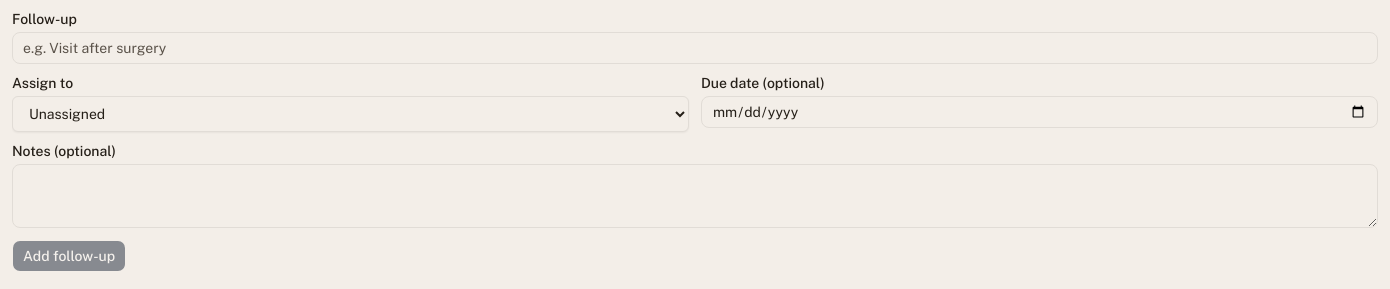
Scenario: FollowUpForm › creates a task on the person and clears the form
Expected: the button "Add follow-up" is disabled, [12, 240, 126, 272]
Type "Call them" into the field labelled "Follow-up".
click(695, 48); type("Call them")  # box [12, 32, 1378, 64]
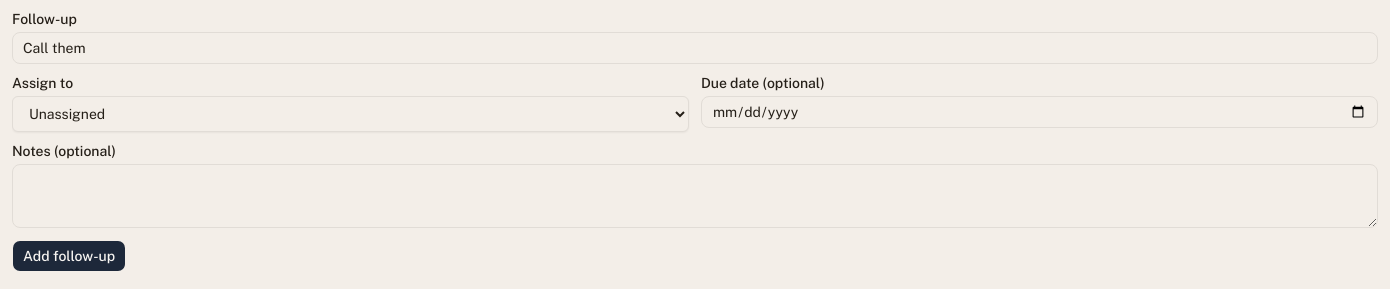
Select "Pat" in the dropdown labelled "Assign to" at {"x": 350, "y": 114}, box [12, 96, 689, 132]
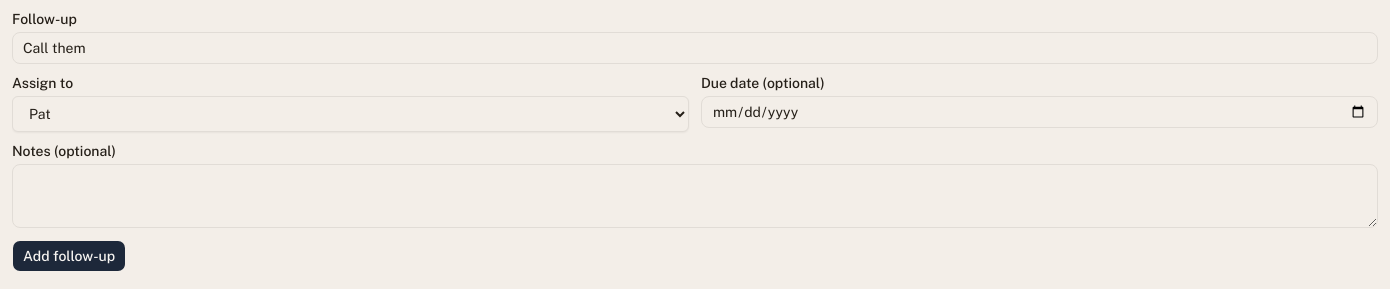
Type "2026-12-01" into the date field labelled "Due date (optional)".
click(1040, 112); type("2026-12-01")  # box [701, 96, 1378, 128]
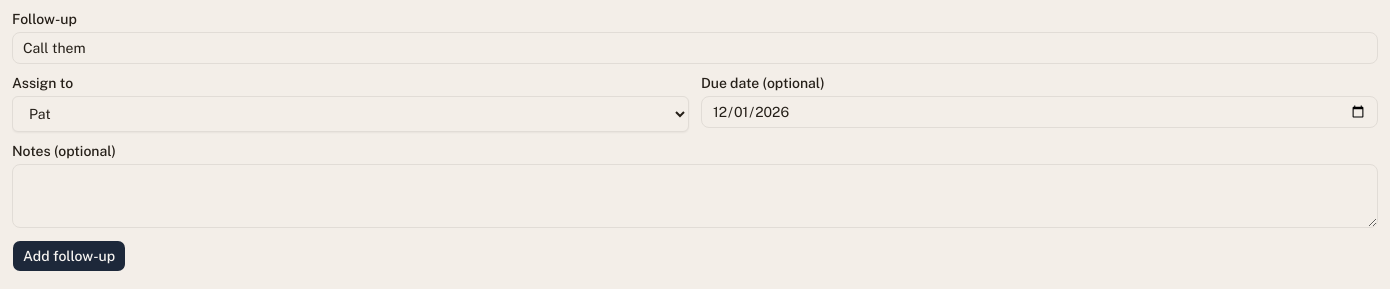
Click the button "Add follow-up".
click(69, 256)  # box [12, 240, 126, 272]
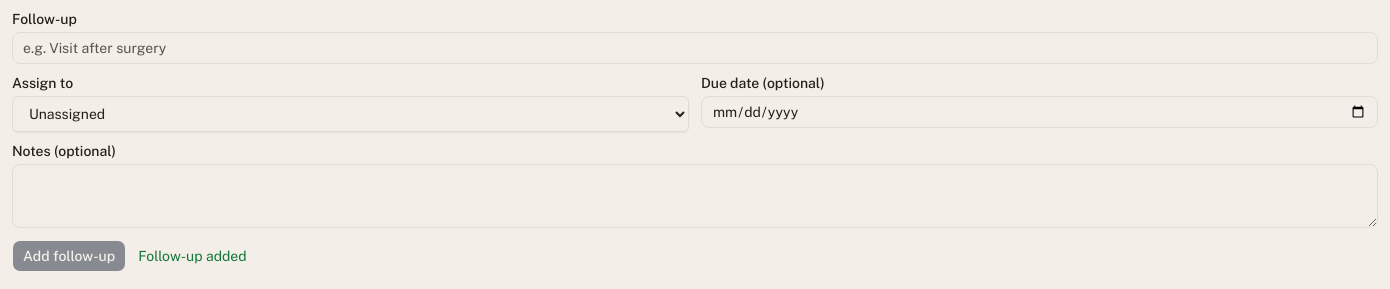
Result: the text "Follow-up added" is shown at [138, 246, 247, 266]
Result: the field labelled "Follow-up" is empty at [12, 32, 1378, 64]
